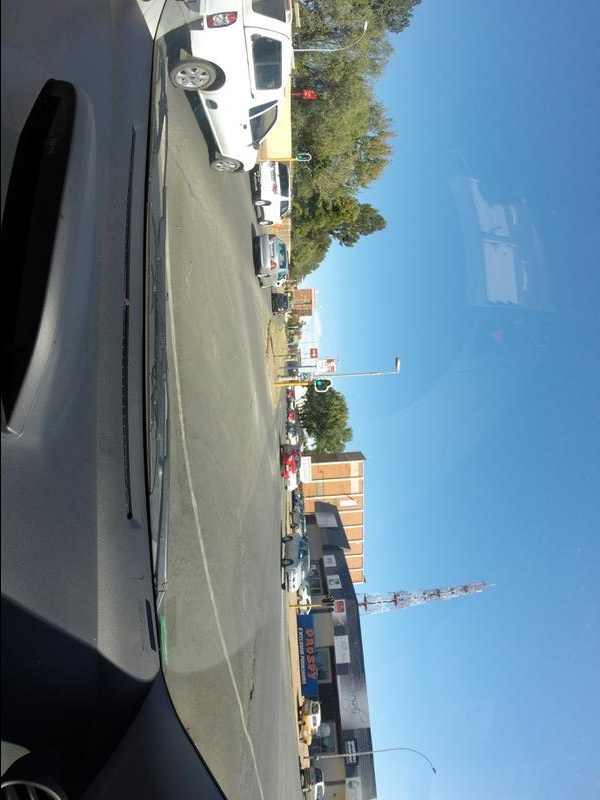pothole: (242, 632, 265, 705), (246, 397, 256, 413)
